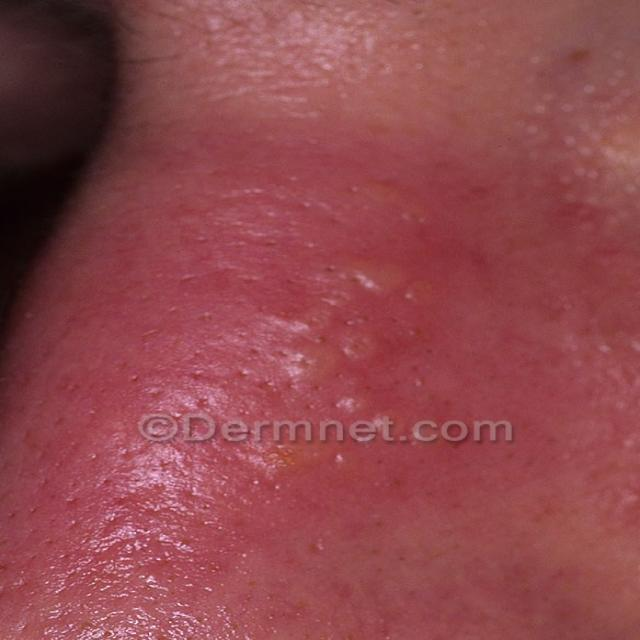Viral Infections: (233, 236, 471, 523)
